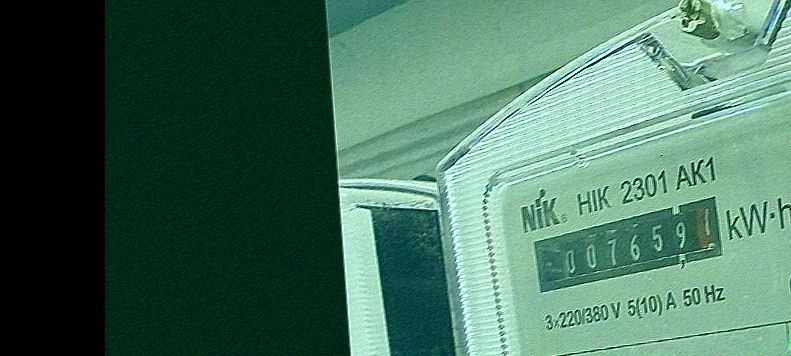0: (563, 245, 578, 274), (584, 242, 599, 270)
1: (700, 207, 714, 238)
5: (649, 222, 666, 255)
6: (627, 231, 643, 263)
7: (605, 234, 621, 267)
9: (672, 217, 690, 252)
screen: (517, 189, 744, 299)
